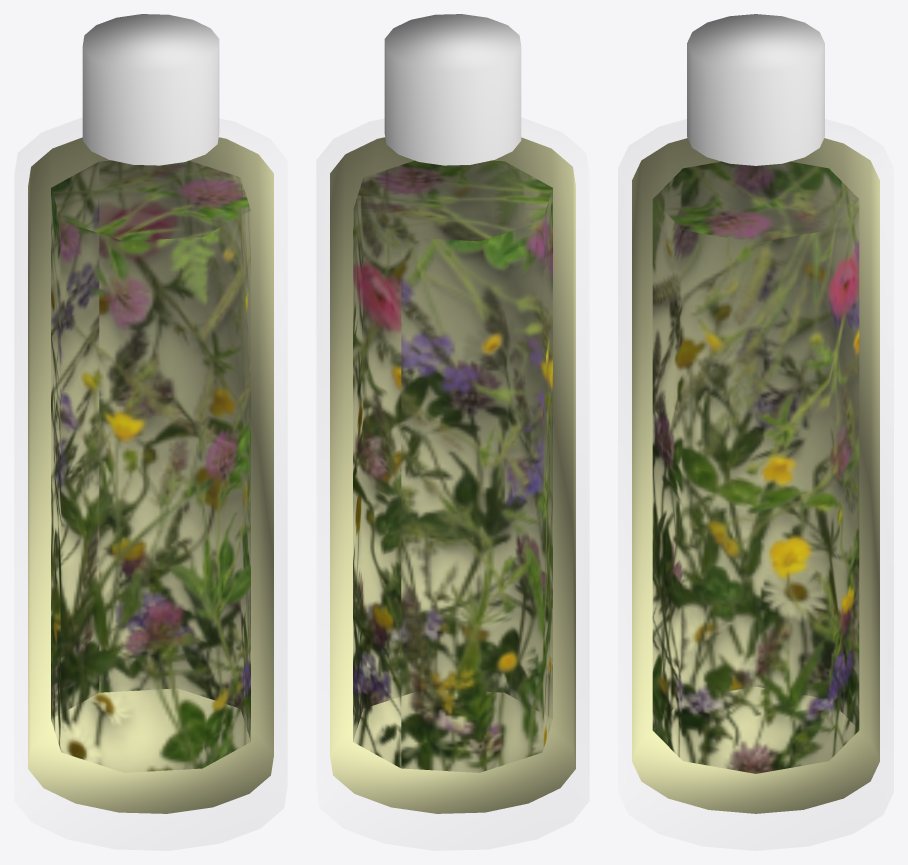
File: herbarium.glb
The picture shows the model from 3 angles, left to right: view 1: azimuth 30°, elevation 25°; view 2: azimuth 150°, elevation 25°; view 3: azimuth 270°, elevation 25°; orthographic projection.
Parts seen in each view (by area): view 1: oil3, plant, Cylinder; view 2: oil3, plant, Cylinder; view 3: plant, oil3, Cylinder.
Boxes of the visible parts, x1=… form: oil3: x1=28, y1=137, x2=273, y2=813; plant: x1=51, y1=160, x2=250, y2=771; Cylinder: x1=82, y1=14, x2=219, y2=165; oil3: x1=330, y1=137, x2=575, y2=813; plant: x1=353, y1=160, x2=552, y2=772; Cylinder: x1=384, y1=14, x2=521, y2=165; plant: x1=652, y1=161, x2=859, y2=773; oil3: x1=632, y1=138, x2=879, y2=813; Cylinder: x1=687, y1=14, x2=824, y2=165.
Size of the model in its own units: 0.04 by 0.12 by 0.04.
4 materials, 1 textured.
